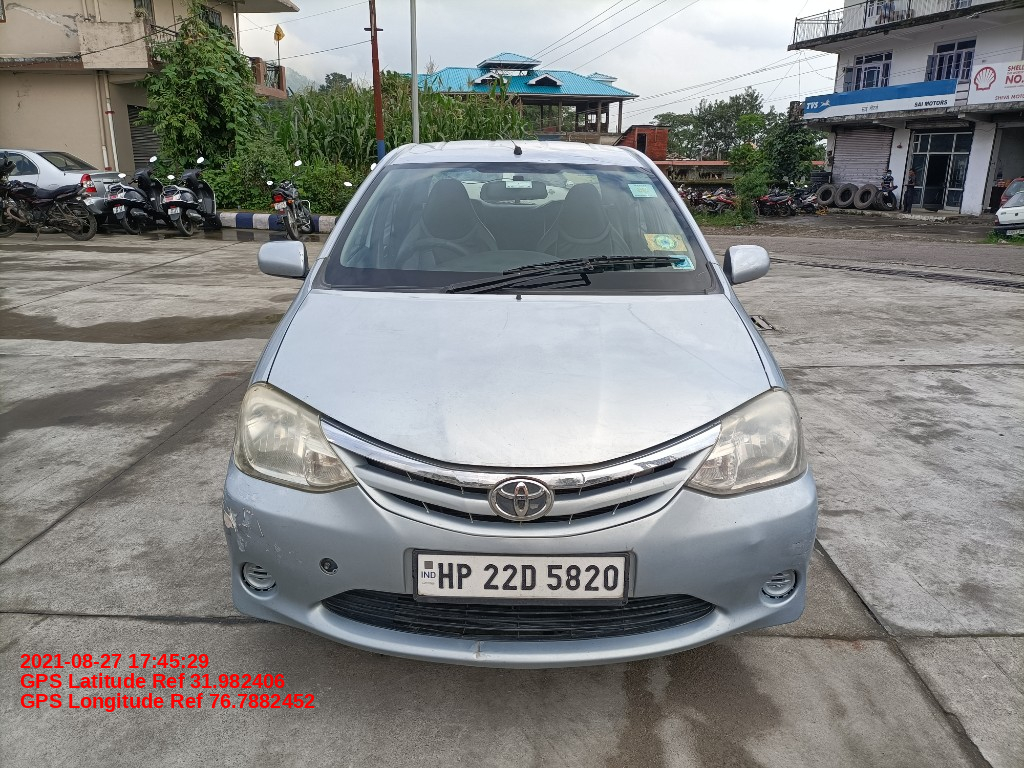Cracked: (460, 637, 500, 660)
Pressed: (741, 527, 772, 559)
Scratched: (219, 491, 270, 558), (787, 521, 817, 570), (274, 543, 306, 568)
